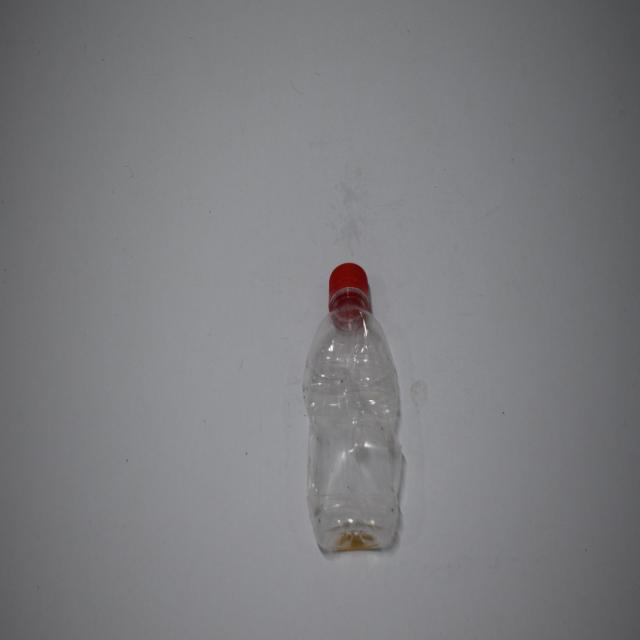bottle: (300, 256, 412, 558)
